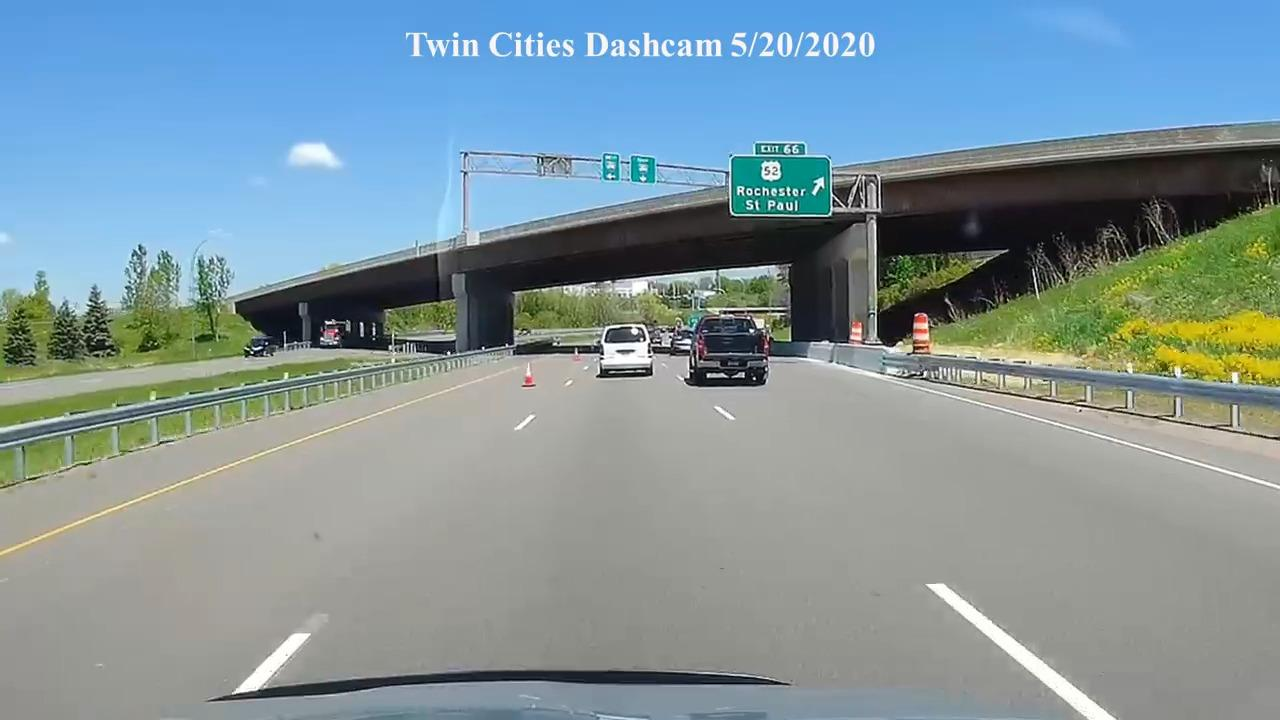car: (687, 312, 772, 387), (595, 323, 656, 378), (243, 335, 276, 359)
traffic cone: (911, 312, 933, 355), (521, 361, 537, 388)
